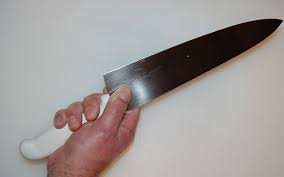knife: (18, 15, 281, 164)
